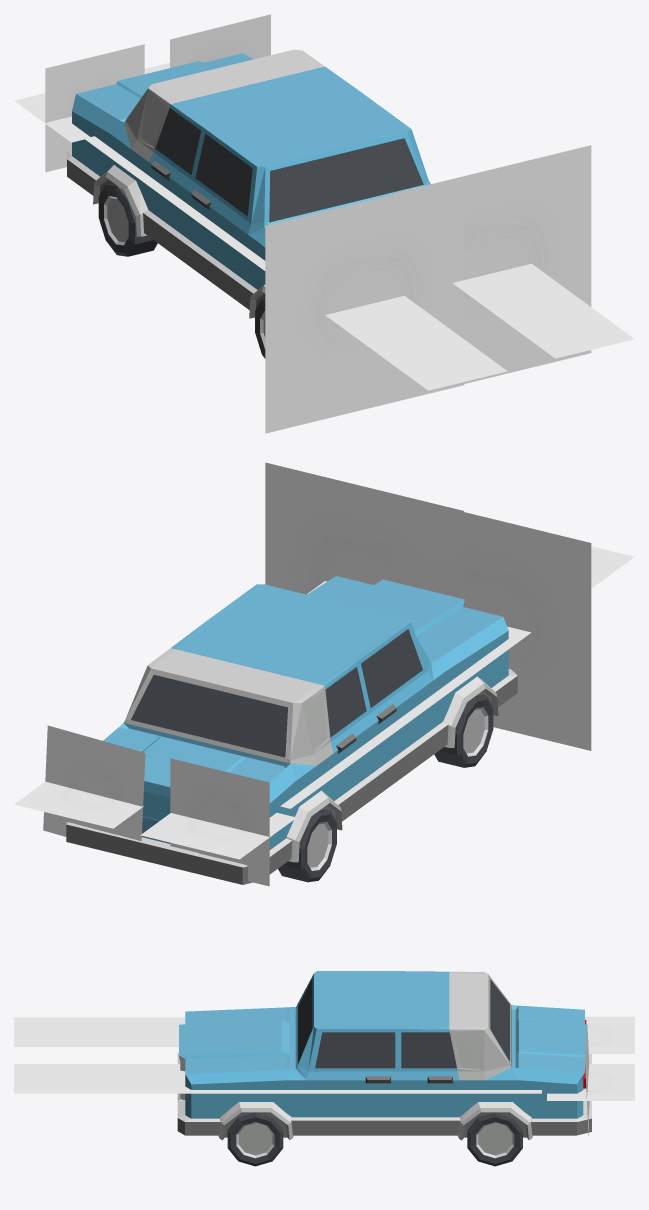
Rendered from Lincoln.fbx.
3 views of the same model, one above another, from view 1: azimuth 30°, elevation 25°; view 2: azimuth 150°, elevation 25°; view 3: azimuth 270°, elevation 25° (orthographic). The views are drawn at different scales.
Parts seen in each view (by area): view 1: StopLightBillboard (×7), BodyMesh, Wheel; view 2: StopLightBillboard (×7), BodyMesh, Wheel (×2); view 3: BodyMesh, StopLightBillboard (×4), Wheel (×2).
Boxes of the visible parts, x1=… form: StopLightBillboard (×7): x1=14, y1=14, x2=634, y2=433; BodyMesh: x1=67, y1=49, x2=430, y2=318; Wheel: x1=98, y1=184, x2=157, y2=256; StopLightBillboard (×7): x1=14, y1=462, x2=634, y2=886; BodyMesh: x1=66, y1=576, x2=517, y2=884; Wheel (×2): x1=278, y1=695, x2=493, y2=882; BodyMesh: x1=177, y1=971, x2=591, y2=1140; StopLightBillboard (×4): x1=14, y1=1016, x2=634, y2=1100; Wheel (×2): x1=227, y1=1112, x2=522, y2=1166.
Size of the model in its own units: 1.64 by 1 by 3.53.
Materials: 3 (3 with a texture image).
